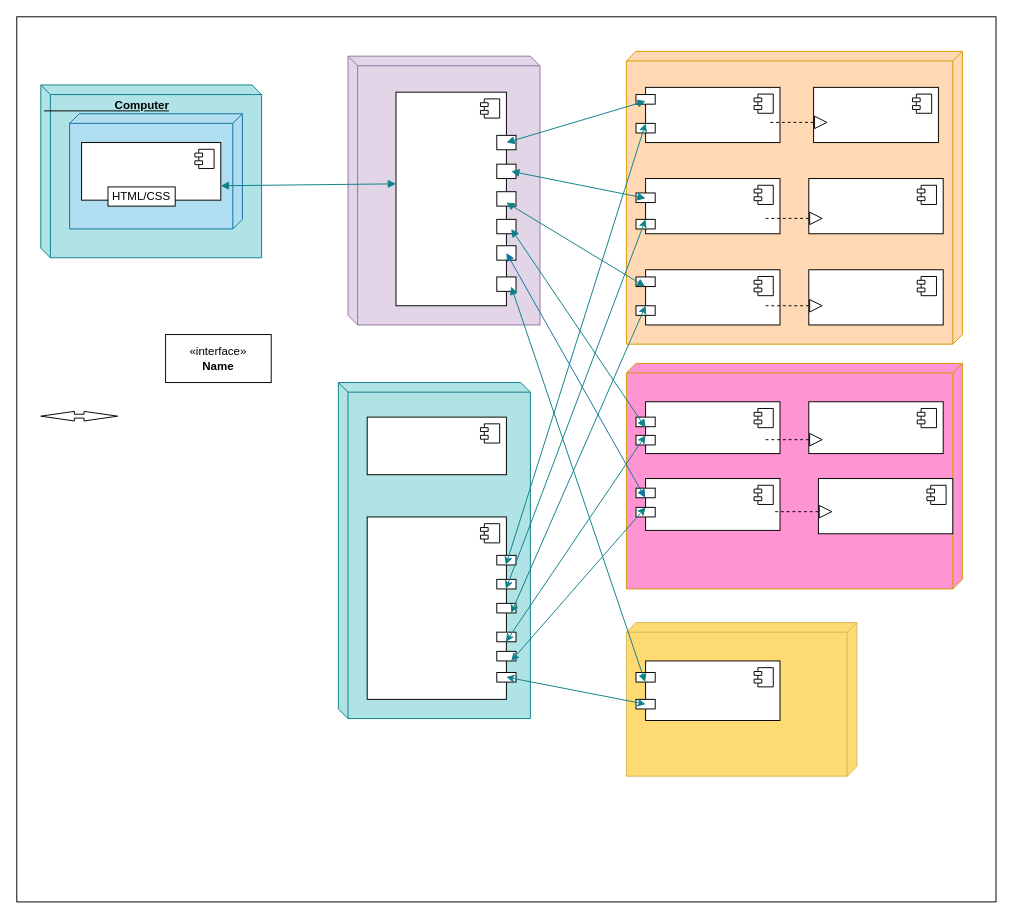
This 1013x919 diagram has some shape labels left out. Each missing label, with the box of its shape:
Ecommerce Client Module: (81, 142, 221, 200)
Web Browser: (69, 113, 242, 229)
